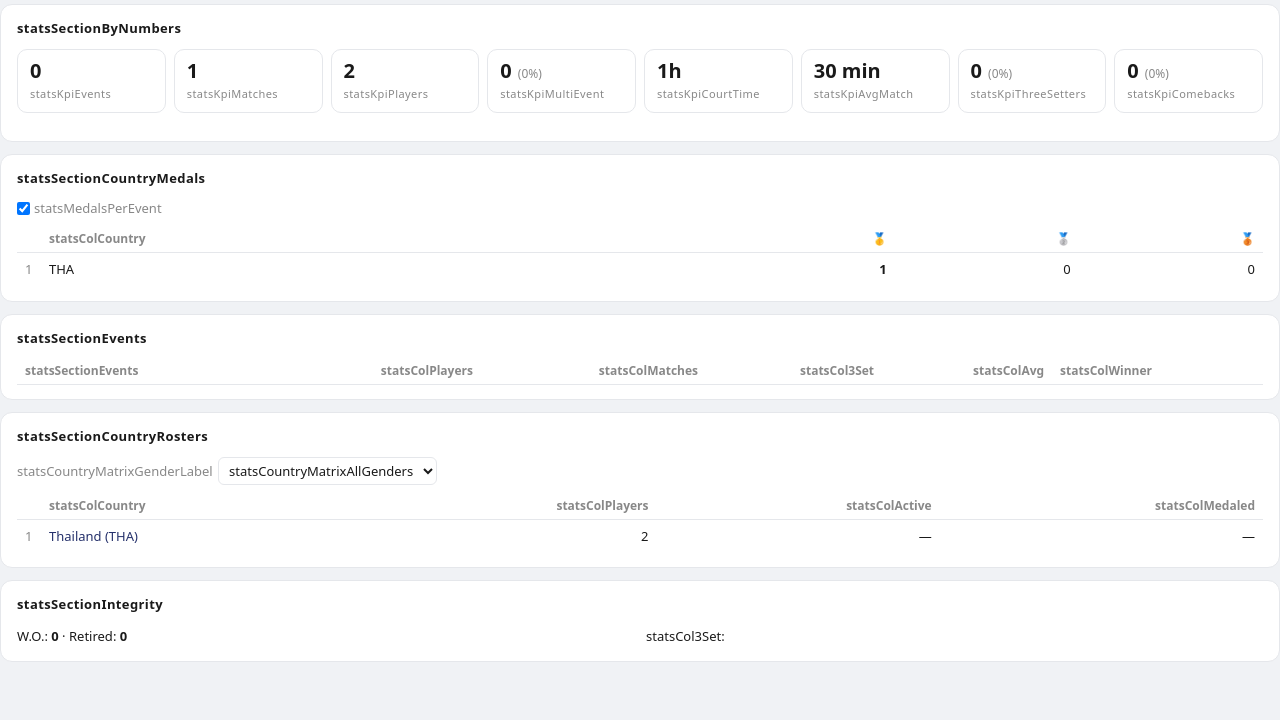
Test: TournamentStatsPanel medals per-event toggle › unchecking reveals raw per-medalist counts (doubles win = 2 golds)
Click the checkbox at (24, 208), box [17,202,30,215]
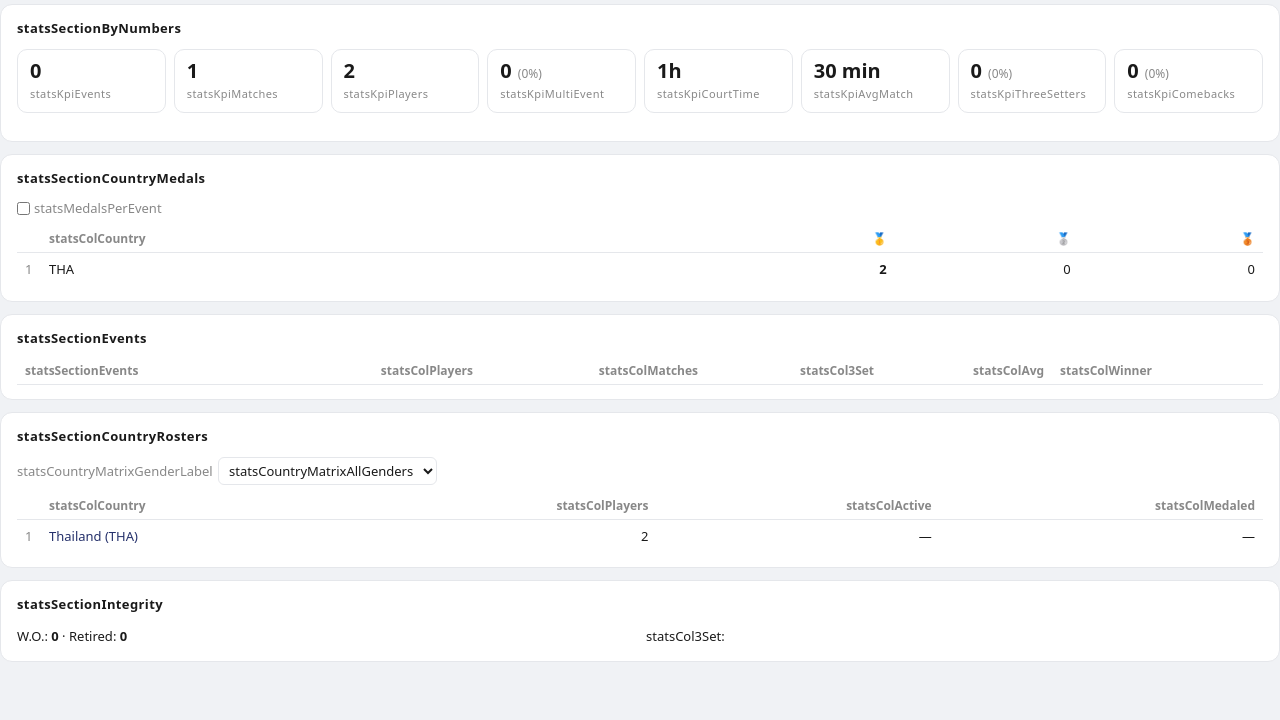
Result: the 2nd text "2" is shown at [879,260,886,278]
